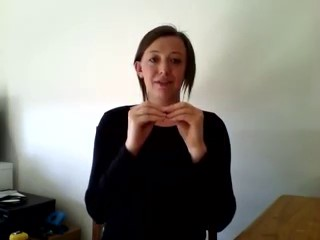B: (119, 100, 208, 147)
